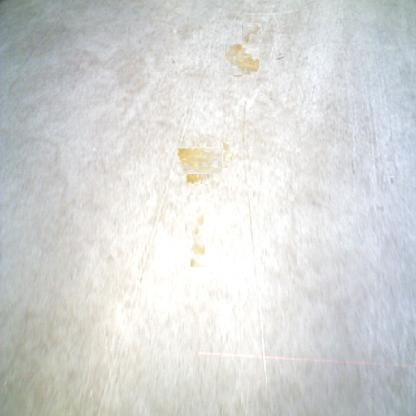liquid: (181, 143, 218, 179), (225, 42, 259, 76), (190, 195, 205, 267), (243, 23, 261, 42), (218, 146, 234, 164)
mark: (276, 53, 286, 62), (170, 57, 176, 65), (390, 176, 394, 185)
